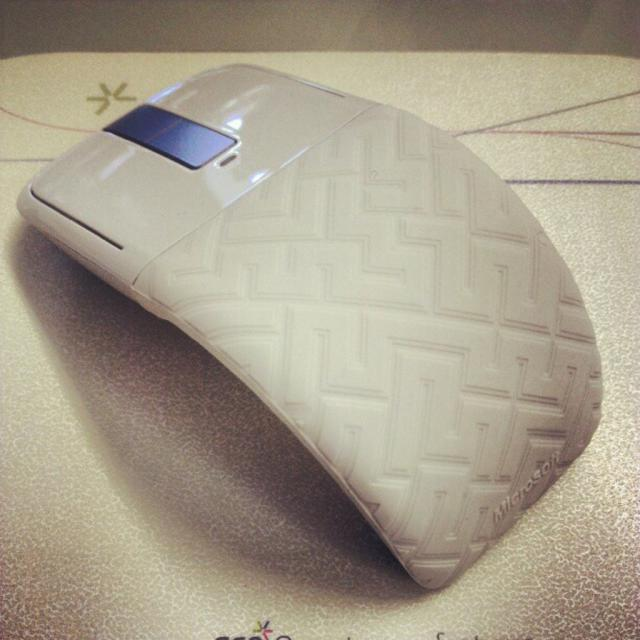Computer-mouse: (14, 54, 604, 590)
